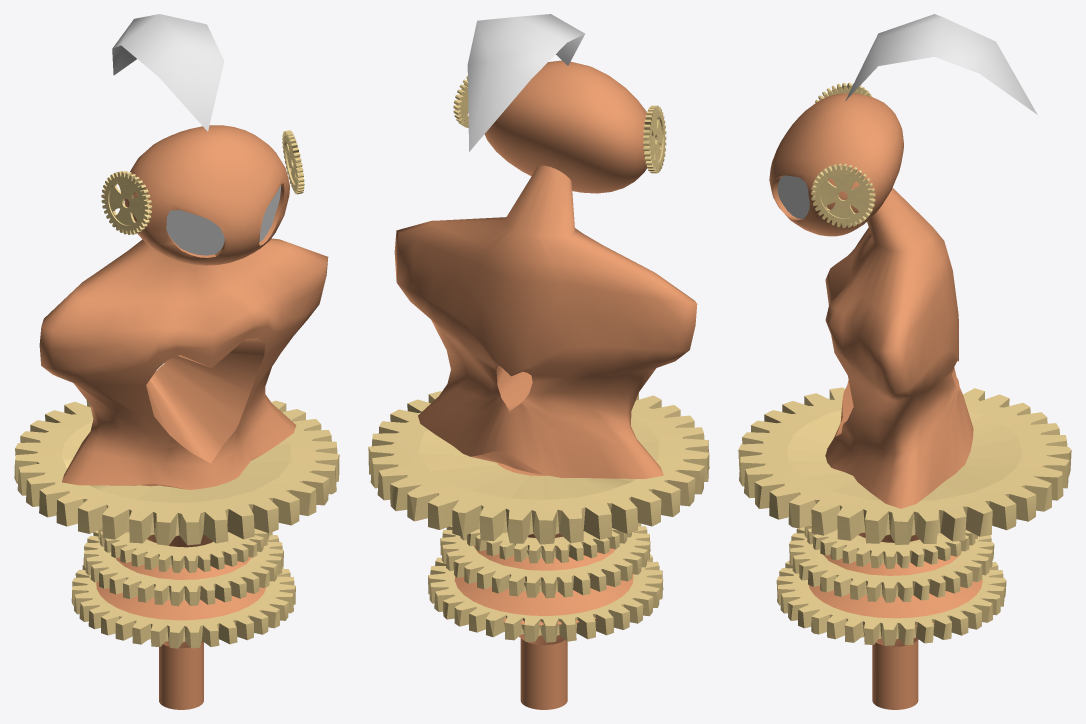
Rendered from Paz.fbx.
The picture shows the model from 3 angles, left to right: view 1: azimuth 30°, elevation 25°; view 2: azimuth 150°, elevation 25°; view 3: azimuth 270°, elevation 25°; orthographic projection. The views are drawn at different scales.
Visible parts, largest first — view 1: Circle.026, Circle.030, Sphere.005, Circle.027, Plane.001, Circle.001, Circle.028, Circle.029, 45.001_Rad Material_0.010, 45.001_Rad Material_0.011; view 2: Circle.026, Circle.030, Sphere.005, Plane.001, Circle.001, Circle.027, Circle.028, Circle.029, 45.001_Rad Material_0.010, 45.001_Rad Material_0.011; view 3: Circle.026, Circle.030, Sphere.005, Circle.027, Circle.001, Circle.028, Plane.001, Circle.029, 45.001_Rad Material_0.011.
Part boxes in pixels (x1,y1,x2,y2): Circle.026: [39, 238, 328, 489]; Circle.030: [14, 400, 339, 545]; Sphere.005: [124, 125, 289, 265]; Circle.027: [71, 565, 295, 648]; Plane.001: [112, 14, 224, 131]; Circle.001: [96, 534, 266, 709]; Circle.028: [83, 530, 283, 606]; Circle.029: [98, 528, 269, 572]; 45.001_Rad Material_0.010: [101, 171, 152, 234]; 45.001_Rad Material_0.011: [282, 130, 304, 194]; Circle.026: [394, 165, 697, 478]; Circle.030: [368, 391, 709, 544]; Sphere.005: [484, 60, 646, 193]; Plane.001: [467, 14, 584, 151]; Circle.001: [454, 463, 633, 709]; Circle.027: [428, 554, 663, 642]; Circle.028: [440, 523, 650, 598]; Circle.029: [460, 528, 631, 563]; 45.001_Rad Material_0.010: [643, 105, 666, 173]; 45.001_Rad Material_0.011: [453, 75, 468, 127]; Circle.026: [825, 188, 973, 508]; Circle.030: [738, 387, 1071, 544]; Sphere.005: [769, 93, 903, 236]; Circle.027: [776, 560, 1006, 645]; Circle.001: [809, 532, 982, 709]; Circle.028: [789, 527, 994, 602]; Plane.001: [845, 14, 1037, 114]; Circle.029: [804, 525, 977, 568]; 45.001_Rad Material_0.011: [811, 163, 875, 227].
Bounding box in the file's own units: 496 × 1104 × 488.
